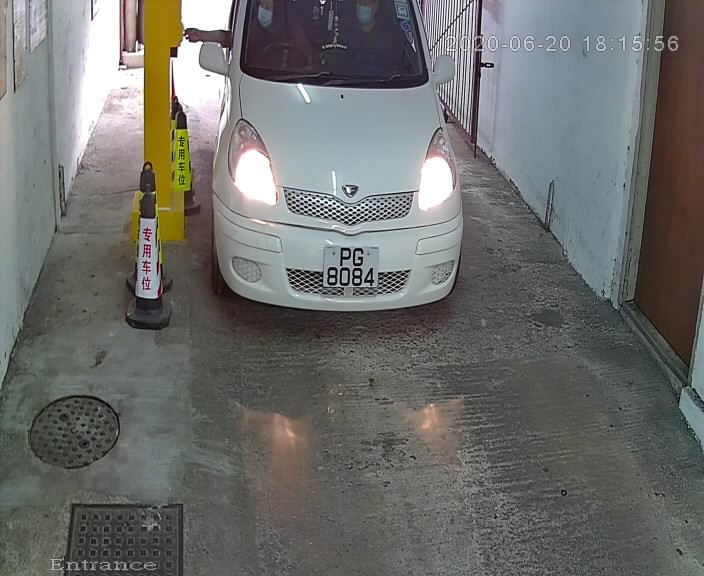privatecar: (188, 1, 482, 341)
